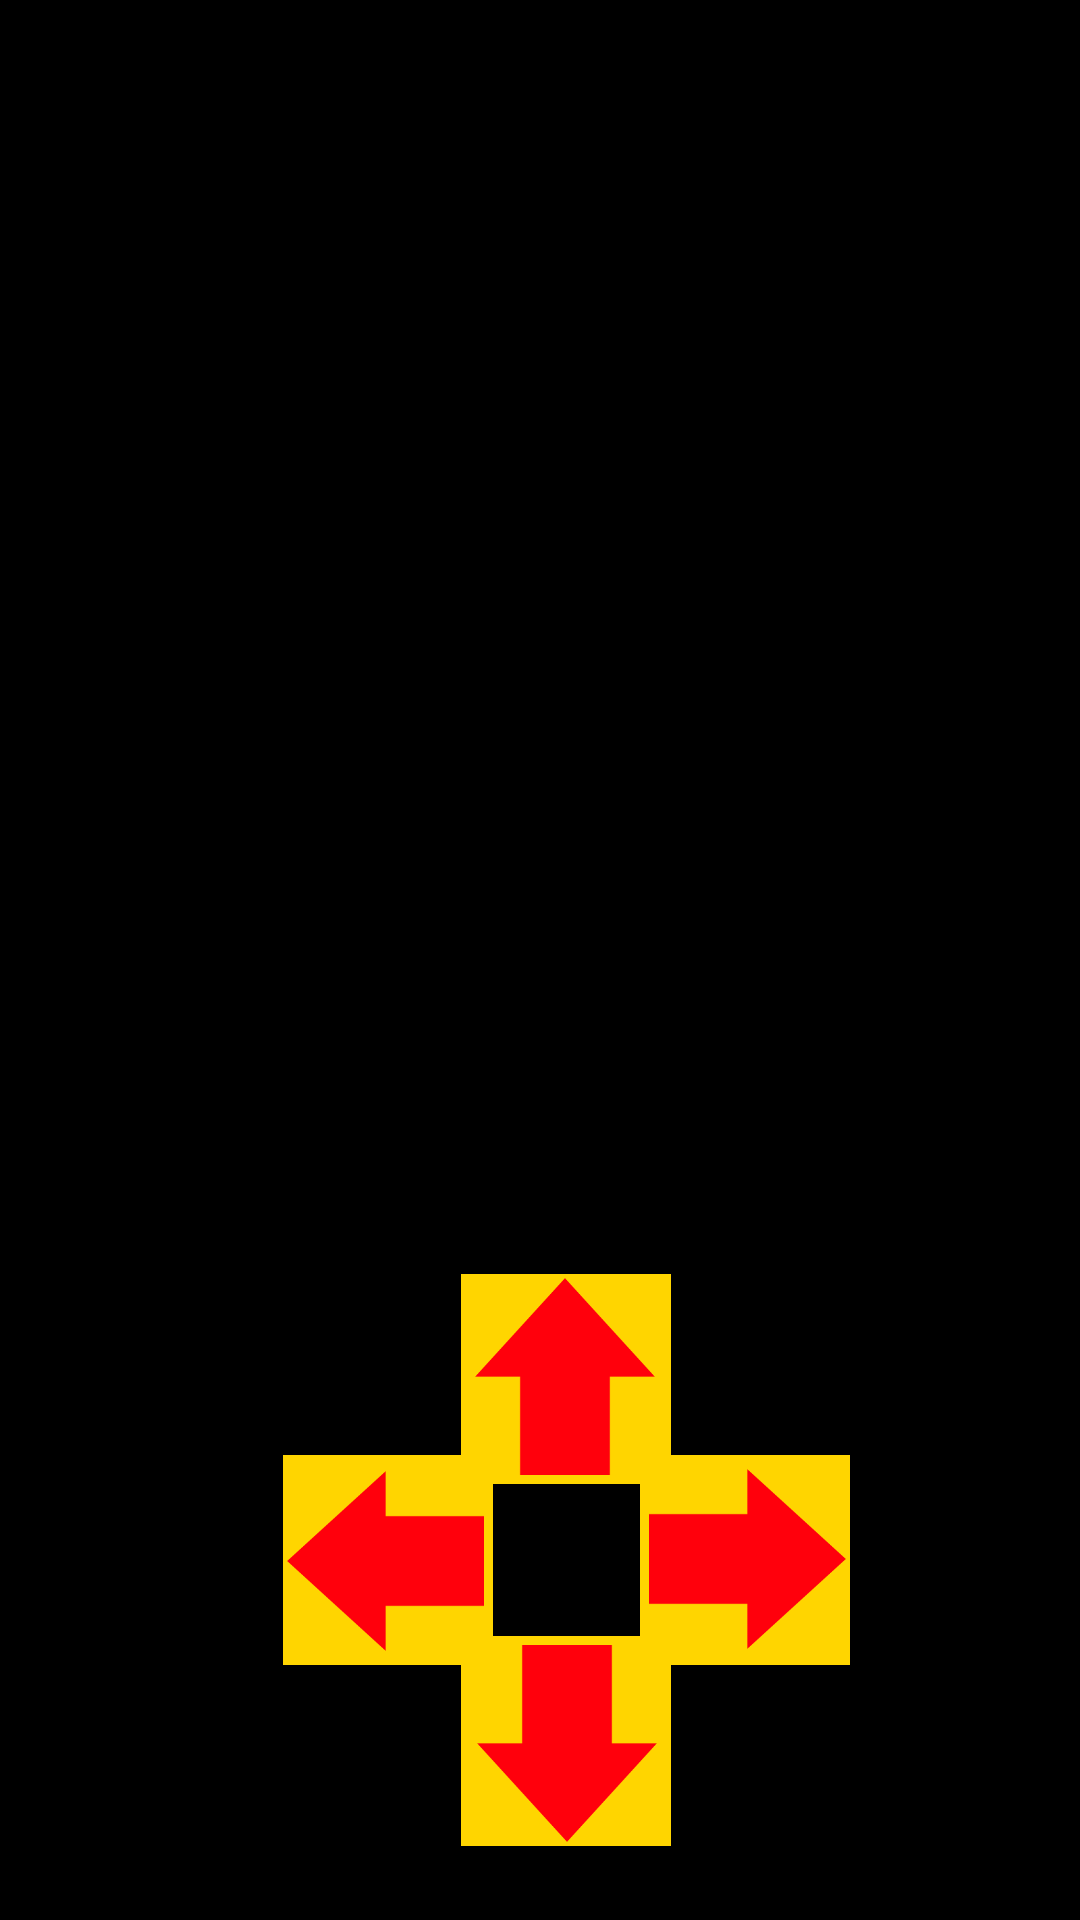

Named icons in this screenshot (1080px x 1920px) and their centers, (x,y):
arrowdown: (566,1741)
arrowleft: (388,1560)
arrowright: (745,1560)
arrowup: (566,1379)
